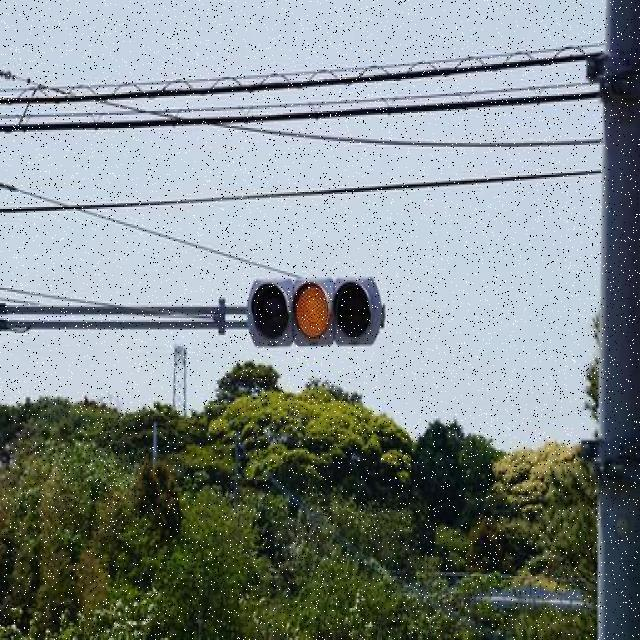yellow_light: (293, 282, 326, 345)
